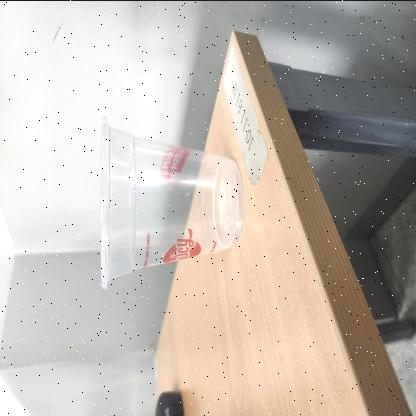Others: (100, 114, 244, 290)
